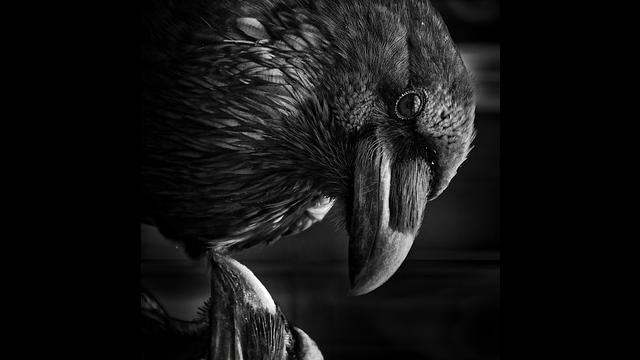Non_Gorille: (142, 0, 490, 360)
